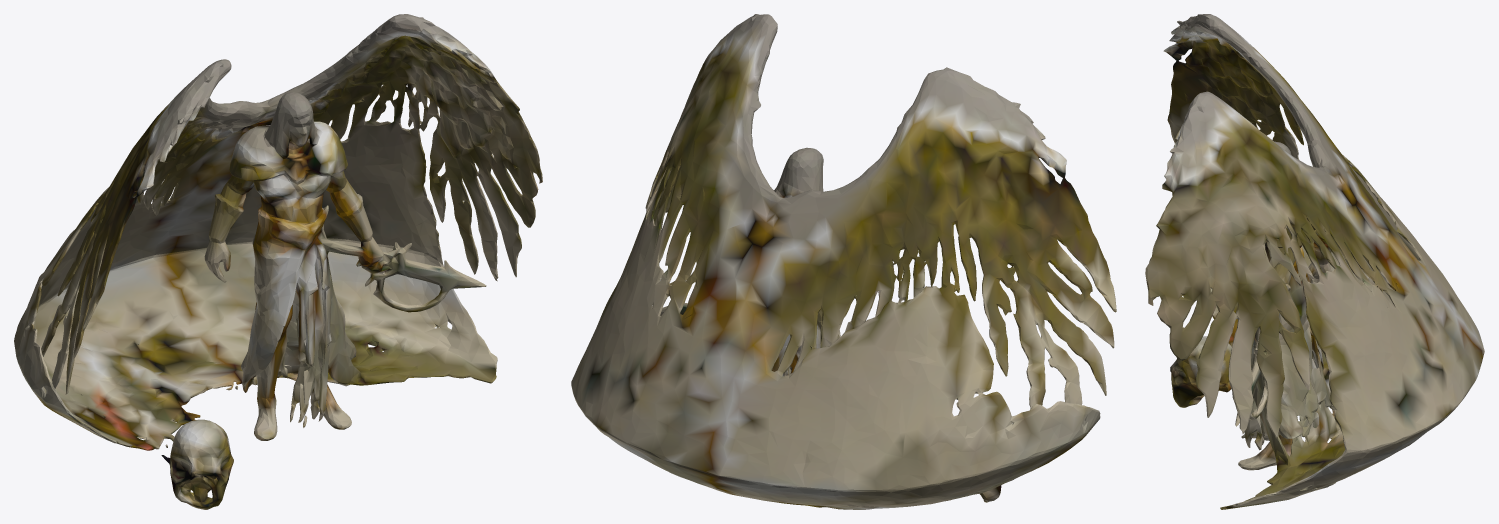
Rendered from drake.glb.
The picture shows the model from 3 angles, left to right: view 1: azimuth 30°, elevation 25°; view 2: azimuth 150°, elevation 25°; view 3: azimuth 270°, elevation 25°; orthographic projection. The views are drawn at different scales.
Parts seen in each view (by area): view 1: world; view 2: world; view 3: world.
Boxes of the visible parts, bbox=[...] form: world: bbox=[14, 14, 542, 509]; world: bbox=[571, 14, 1116, 509]; world: bbox=[1145, 14, 1484, 509].
Bounding box in the file's own units: 1.09 × 1 × 0.7529.
